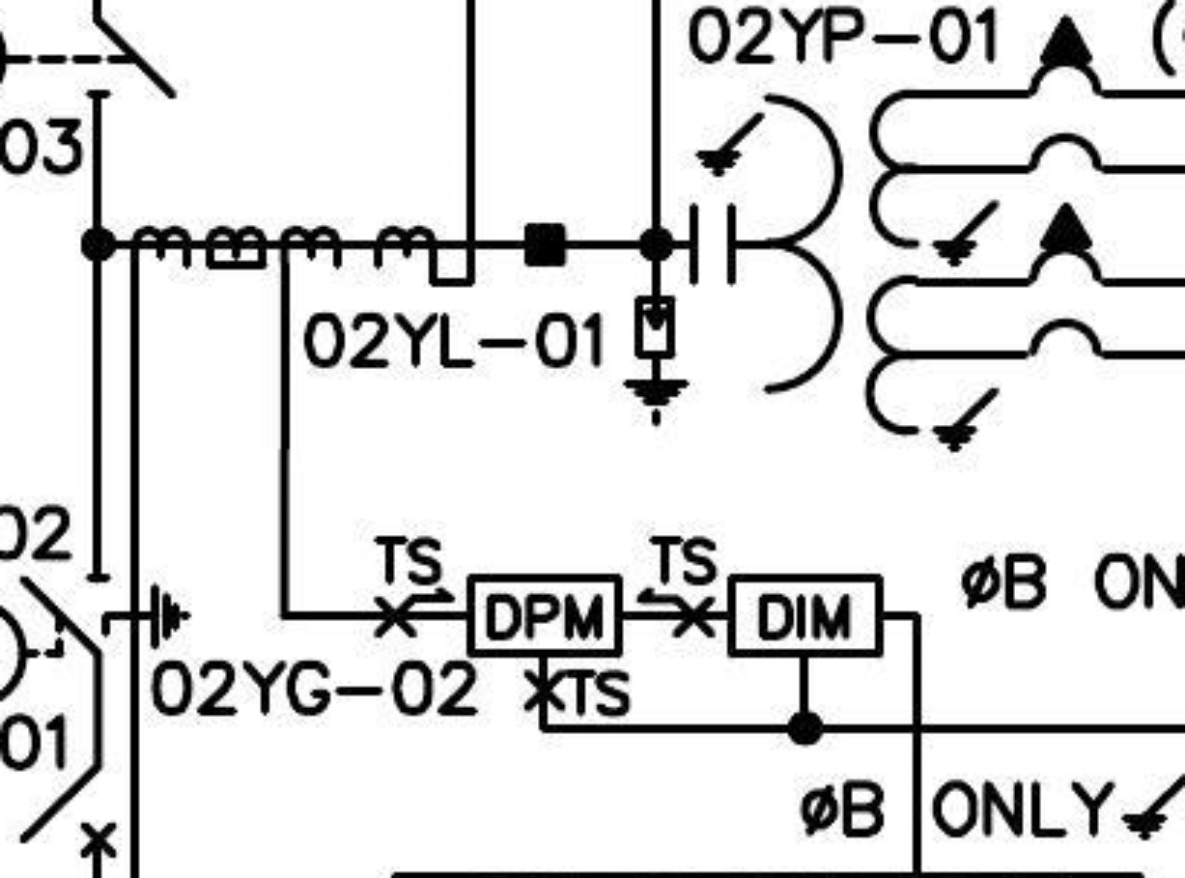115_breaker: (18, 763, 118, 859)
115_cvt_1p: (687, 13, 1109, 456)
115_la: (621, 294, 691, 428)
DIM: (726, 573, 885, 659)
DPM: (465, 573, 624, 658)
